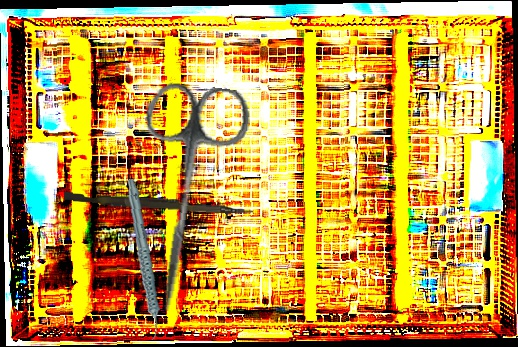Handpiece: (115, 178, 170, 341)
Iris Scissors: (118, 78, 254, 319)
Pusher: (63, 192, 254, 215)
